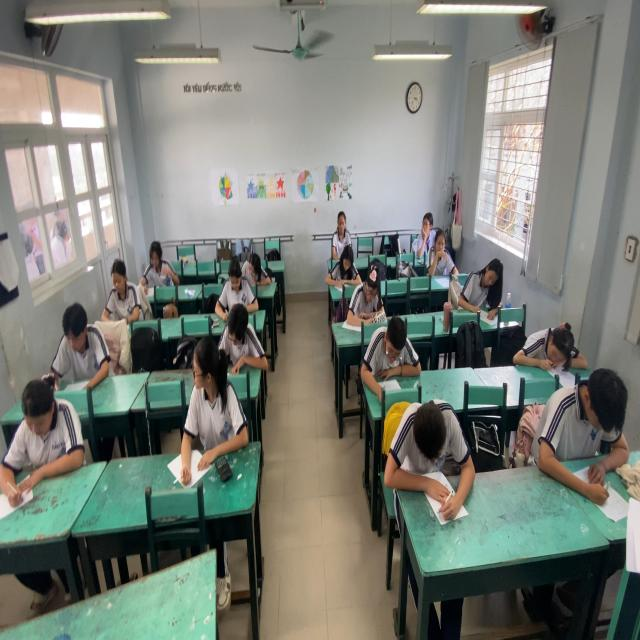cheating: (182, 337, 248, 481), (407, 205, 446, 254)
not_cheating: (527, 363, 638, 499), (2, 370, 92, 524), (381, 385, 472, 536), (43, 295, 110, 405), (504, 301, 588, 385), (360, 312, 424, 401), (92, 250, 144, 331), (216, 303, 271, 377), (451, 252, 506, 326), (210, 257, 265, 317), (229, 233, 274, 298), (321, 240, 371, 298), (132, 227, 178, 290), (345, 259, 386, 329), (424, 224, 463, 286), (327, 202, 360, 256)
